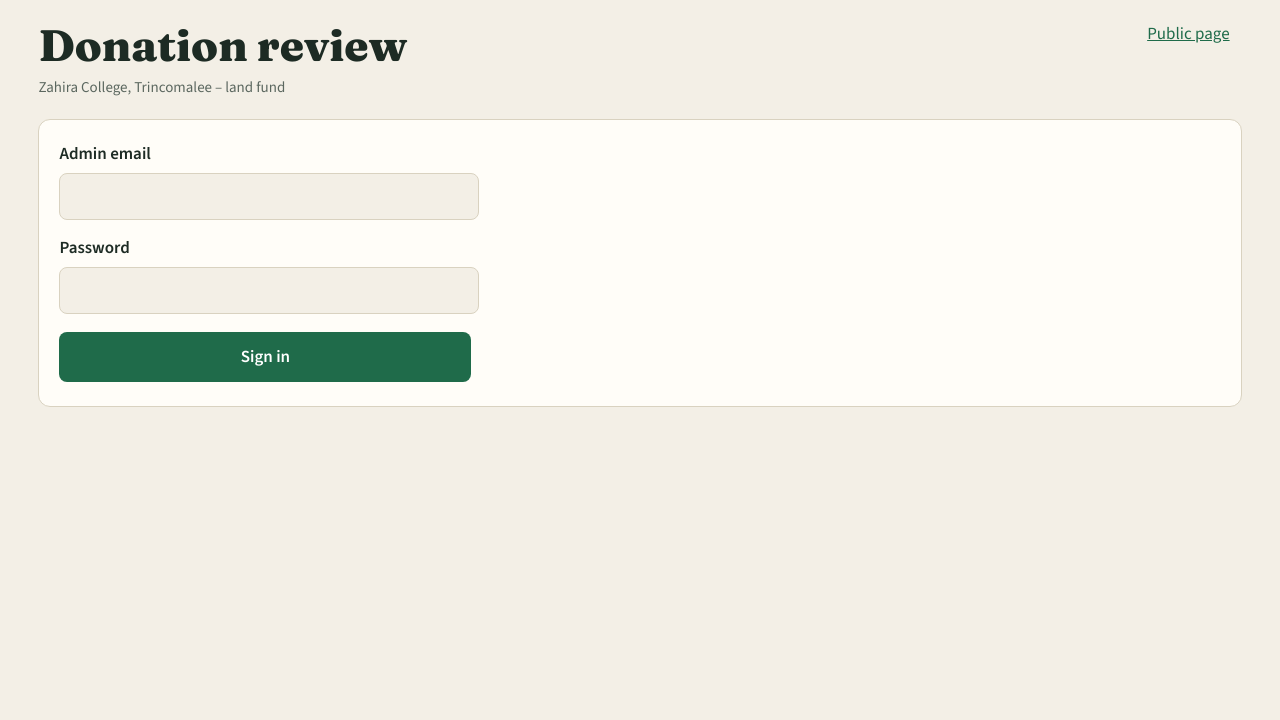
Scenario: AdminApp › loads pending donations immediately after signing in
Step 1. Type "admin@example.org" into the field labelled "Admin email" → point(269, 196), box [59,173,479,220]
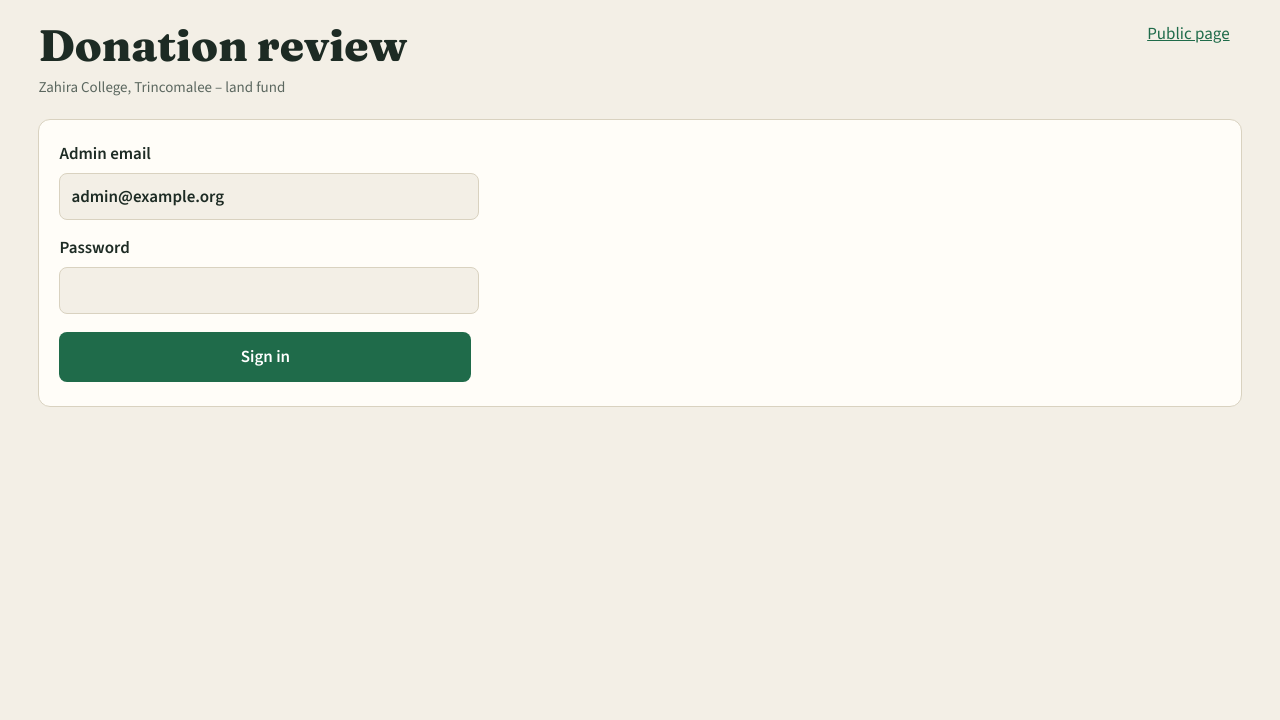
Step 2. Type "a-strong-password" into the password field labelled "Password" → point(269, 291), box [59,267,479,314]
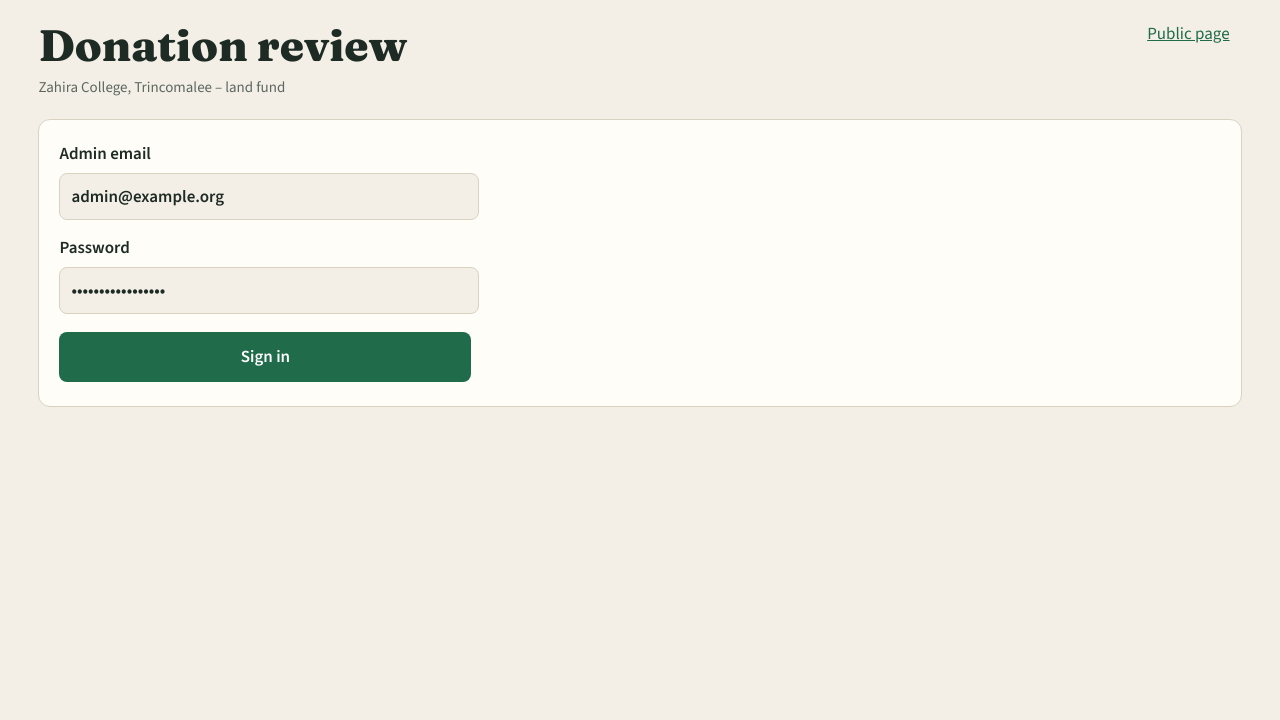
Step 3. Click the button "Sign in" → point(265, 357), box [59,332,471,382]
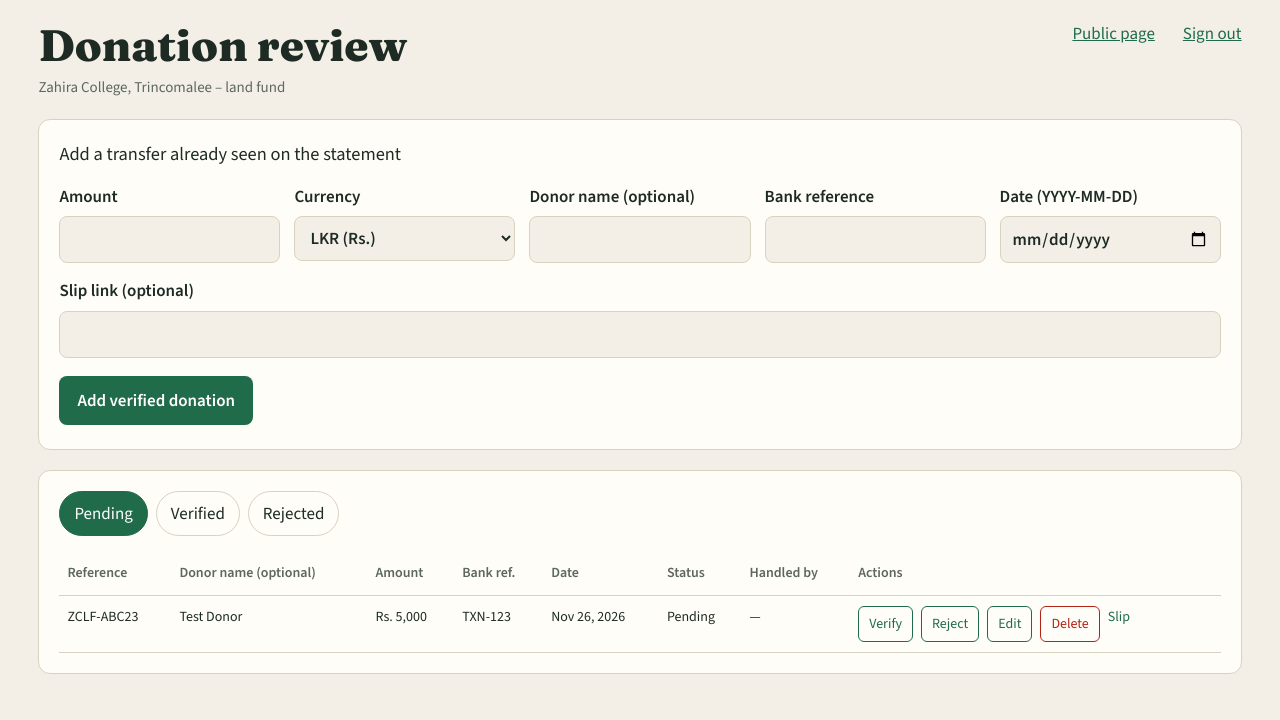
Now the button "Verify" is shown, box [858,606,913,642]
